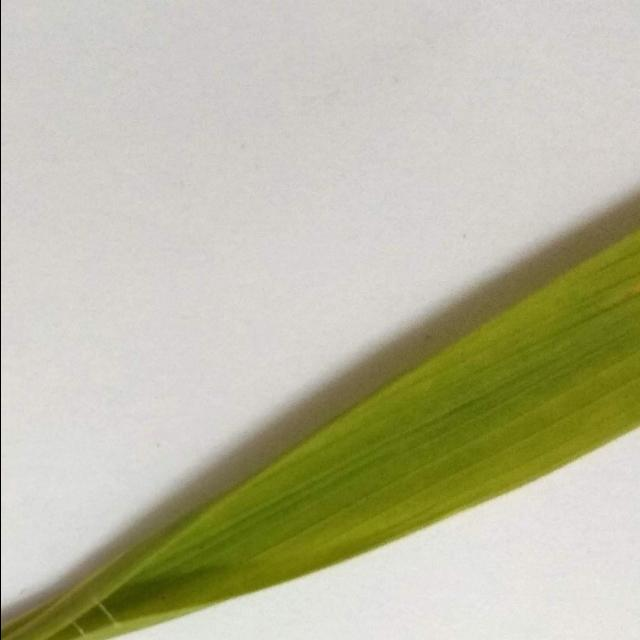healthy: (0, 228, 637, 640)
